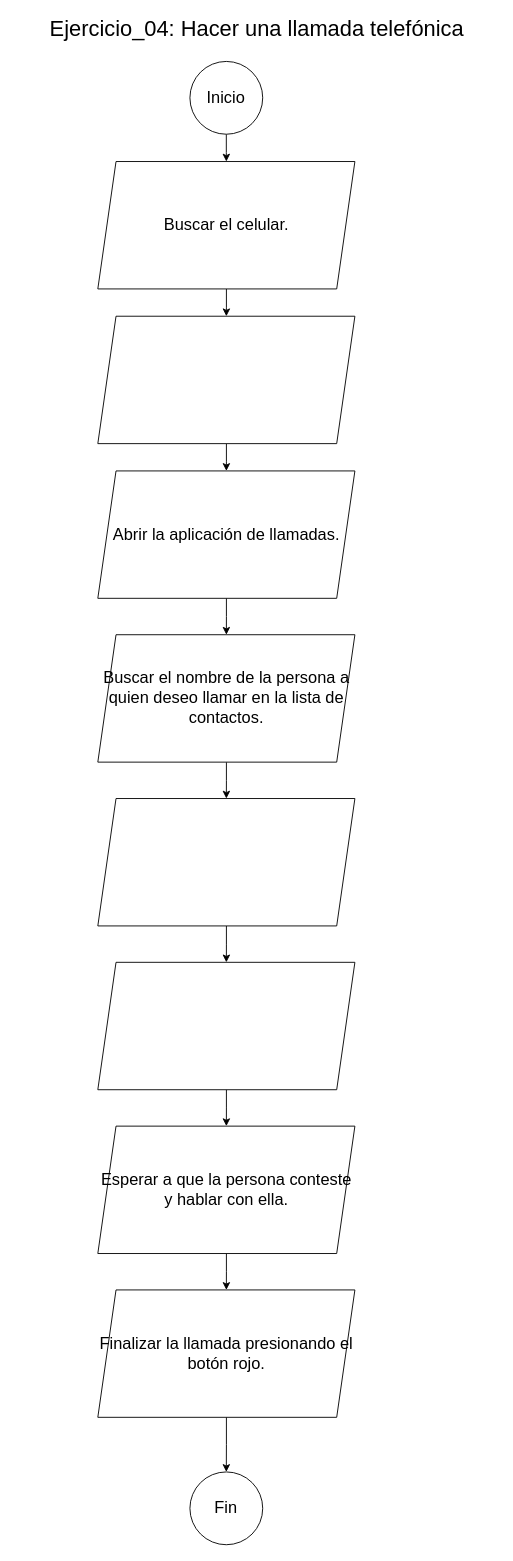
Some shapes in this 513 by 1561 pixel diagram are drawn without their labels. Each missing label, with the box of its shape:
Encender el celular y desbloquearlo.: (97, 315, 355, 444)
Presionar el botón verde para llamar.: (97, 961, 355, 1090)
Verificar que el nombre del contacto sea correcto.: (97, 798, 355, 926)
